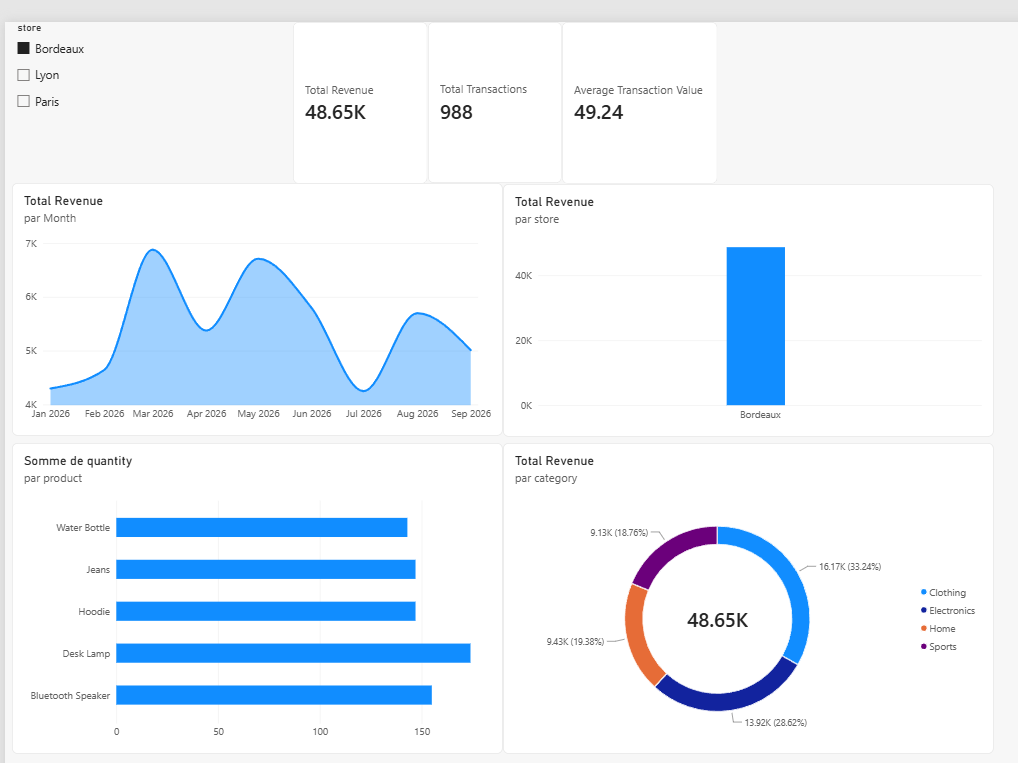

Layout of this report page (visuals, bound fields, positions):
{"tool":"powerbi","page":{"name":"Page 1","canvas":[1920,1080],"ordinal":0},"visuals":[{"type":"cardVisual","fields":{"Data":["sales_clean.Total Revenue"]},"box":[10,0,384.3,231.4],"z":0},{"type":"cardVisual","fields":{"Data":["sales_clean.Total Transactions"]},"box":[525.7,0,371.4,230],"z":1000},{"type":"cardVisual","fields":{"Data":["sales_clean.Average Transaction Value"]},"box":[1062.9,0,350,230],"z":2000},{"type":"areaChart","fields":{"Category":["sales_clean.Month"],"Y":["sales_clean.Total Revenue"]},"box":[10,230,701.4,361.4],"z":2001},{"type":"clusteredColumnChart","fields":{"Category":["sales_clean.store"],"Y":["sales_clean.Total Revenue"]},"box":[711.4,231.4,701,361],"z":2002},{"type":"clusteredBarChart","fields":{"Category":["sales_clean.product"],"Y":["Sum(sales_clean.quantity)"]},"box":[10,601.4,701.4,444.3],"z":2003},{"type":"donutChart","fields":{"Category":["sales_clean.category"],"Y":["sales_clean.Total Revenue"]},"box":[711.4,601.4,701.4,444.3],"z":2004},{"type":"slicer","fields":{"Values":["sales_clean.store"]},"box":[1412.9,0,498.6,345.7],"z":2005}]}

Visuals, with their boxes on the page's 1920x1080 design canvas (x1, y1, x2, y2). These are canvas units, not pixel positions in the 1018x763 screenshot, which may show the page scaled, cropped or inside an application window:
cardVisual - sales_clean.Total Revenue: 10,0,394,231
cardVisual - sales_clean.Total Transactions: 526,0,897,230
cardVisual - sales_clean.Average Transaction Value: 1063,0,1413,230
areaChart - sales_clean.Month x sales_clean.Total Revenue: 10,230,711,591
clusteredColumnChart - sales_clean.store x sales_clean.Total Revenue: 711,231,1412,592
clusteredBarChart - sales_clean.product x Sum(sales_clean.quantity): 10,601,711,1046
donutChart - sales_clean.category x sales_clean.Total Revenue: 711,601,1413,1046
slicer - sales_clean.store: 1413,0,1912,346
